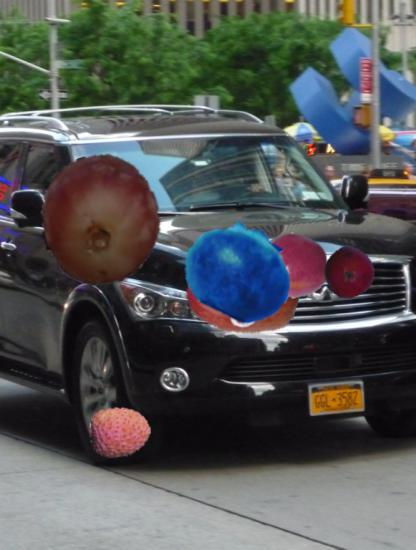Apple: (187, 227, 302, 342)
Cherry: (264, 233, 330, 299)
Grape: (34, 155, 165, 286)
Huckleberry: (185, 216, 296, 327)
Lychee: (90, 403, 151, 464)
Pomegranate: (323, 247, 375, 299)
